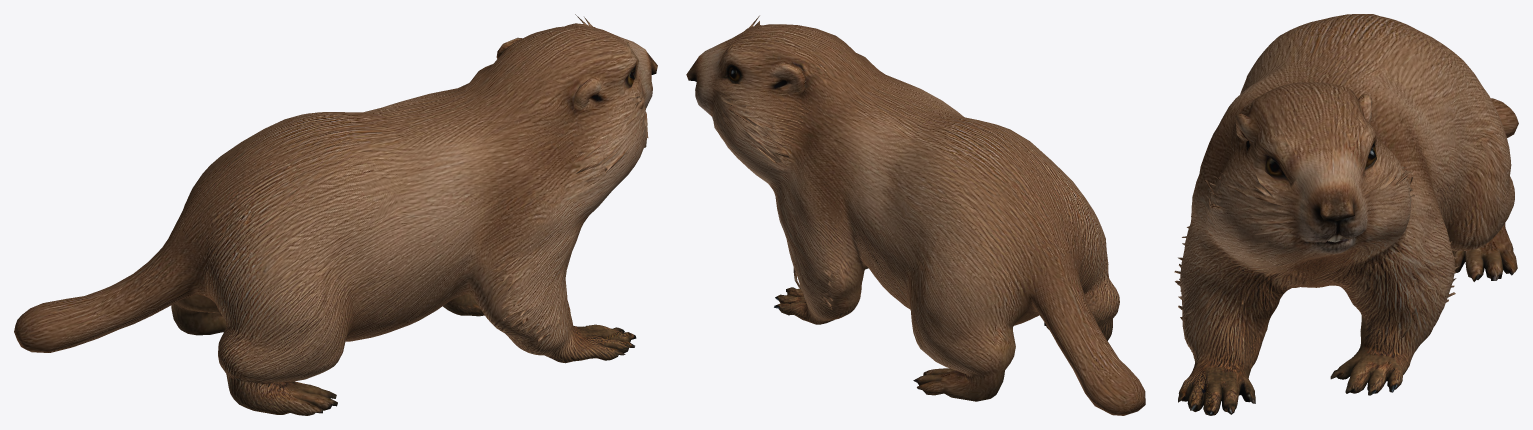
File: marmot.glb
3 renders of one model, left to right at view 1: azimuth 30°, elevation 25°; view 2: azimuth 150°, elevation 25°; view 3: azimuth 270°, elevation 25°, orthographic. The views are drawn at different scales.
Visible parts, largest first — view 1: tripo_node_1fabf71e-c725-4c62-89b9-1523df80f77f; view 2: tripo_node_1fabf71e-c725-4c62-89b9-1523df80f77f; view 3: tripo_node_1fabf71e-c725-4c62-89b9-1523df80f77f.
Part boxes in pixels (<box>): tripo_node_1fabf71e-c725-4c62-89b9-1523df80f77f: <box>14,14,657,415</box>; tripo_node_1fabf71e-c725-4c62-89b9-1523df80f77f: <box>686,15,1145,415</box>; tripo_node_1fabf71e-c725-4c62-89b9-1523df80f77f: <box>1174,14,1518,415</box>.
Size of the model in its own units: 0.9799 by 0.4648 by 0.4608.
Materials: 1 (1 with a texture image).
